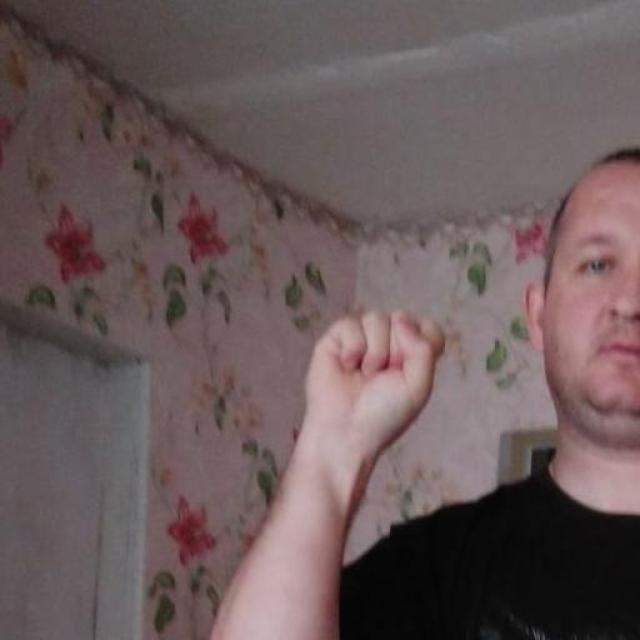hand: (299, 304, 446, 460)
